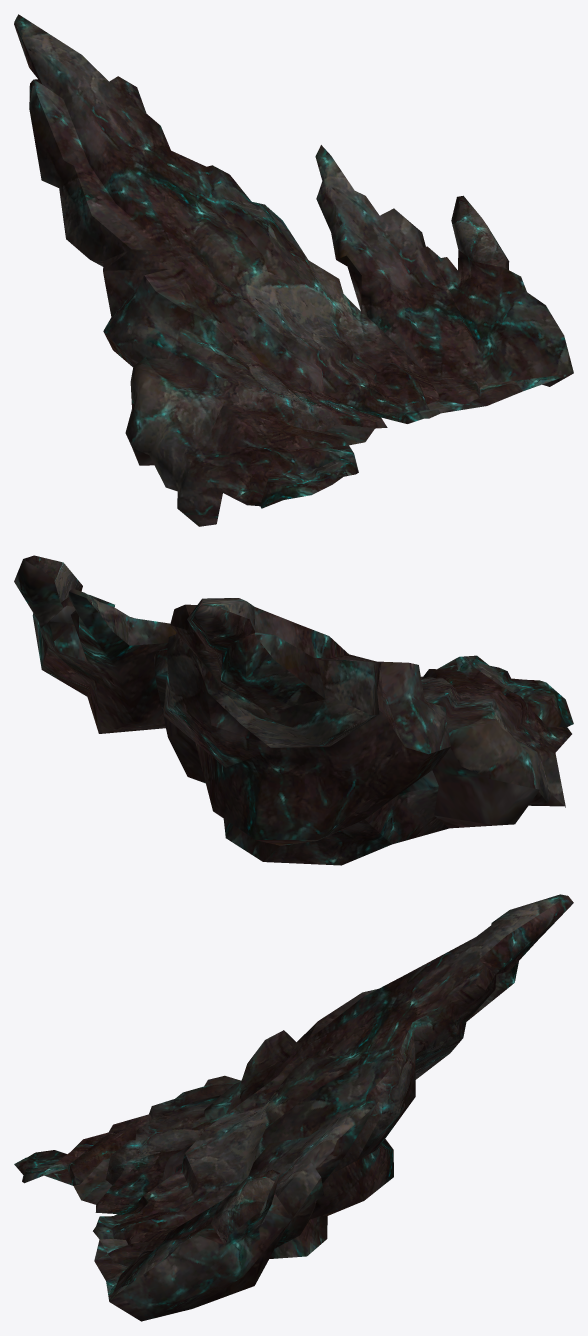
File: S_Rock_Black086.FBX
The picture shows the model from 3 angles, top to bottom: view 1: azimuth 30°, elevation 25°; view 2: azimuth 150°, elevation 25°; view 3: azimuth 270°, elevation 25°; orthographic projection. The views are drawn at different scales.
Visible parts, largest first — view 1: S_Rock_Black086; view 2: S_Rock_Black086; view 3: S_Rock_Black086.
Part boxes in pixels (left/top/right/bottom): S_Rock_Black086: left=14, top=14, right=573, bottom=526; S_Rock_Black086: left=14, top=555, right=573, bottom=865; S_Rock_Black086: left=14, top=894, right=573, bottom=1321.
Size of the model in its own units: 411 by 512 by 317.
